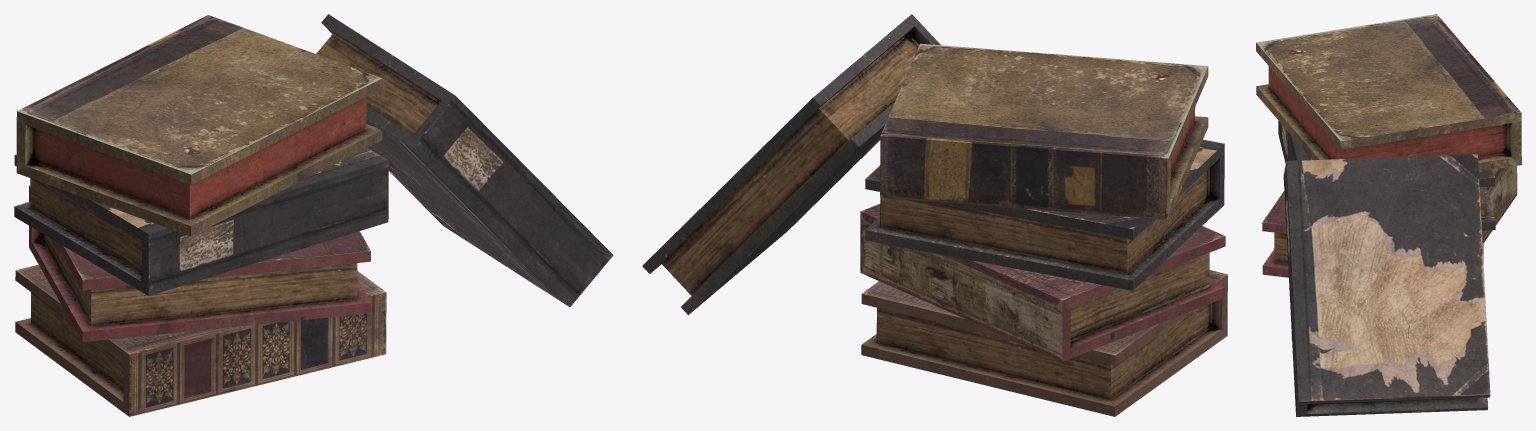
The model's file is books_02.glb.
3 renders of one model, left to right at view 1: azimuth 30°, elevation 25°; view 2: azimuth 150°, elevation 25°; view 3: azimuth 270°, elevation 25°, orthographic. The views are drawn at different scales.
Visible parts, largest first — view 1: Box007; view 2: Box007; view 3: Box007.
Boxes of the visible parts, x1,y1,x2,y2 form: Box007: (14,14,613,416); Box007: (642,14,1227,416); Box007: (1256,14,1521,416).
Bounding box in the file's own units: 52.1 × 24.19 × 27.67.
Materials: 1 (1 with a texture image).
